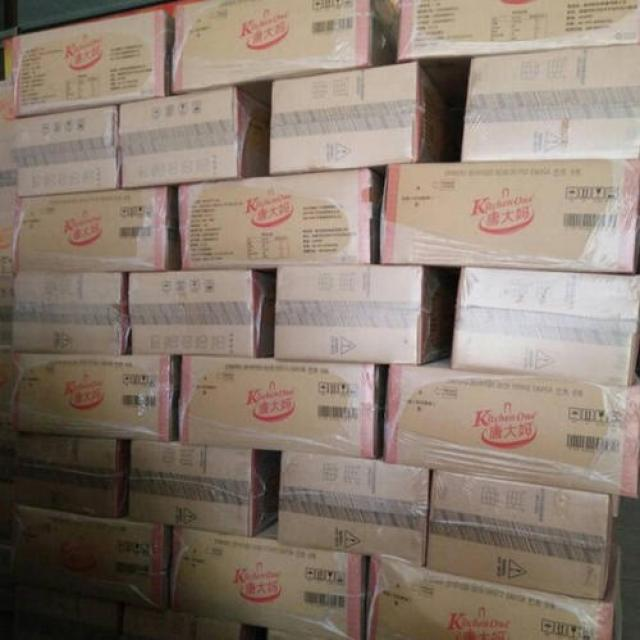box: (385, 359, 640, 500), (380, 159, 640, 273), (426, 468, 608, 600), (169, 519, 365, 640), (453, 268, 640, 386), (366, 554, 614, 639), (172, 0, 401, 92), (461, 45, 640, 162), (269, 60, 448, 176), (180, 355, 379, 459), (177, 169, 371, 271), (0, 504, 170, 613), (273, 264, 445, 367), (12, 8, 174, 117), (279, 453, 429, 564), (118, 85, 270, 187), (398, 0, 640, 63), (0, 353, 170, 441), (129, 440, 270, 536), (18, 183, 169, 272), (129, 271, 273, 358), (0, 434, 129, 516), (12, 101, 119, 196), (13, 272, 123, 355)
